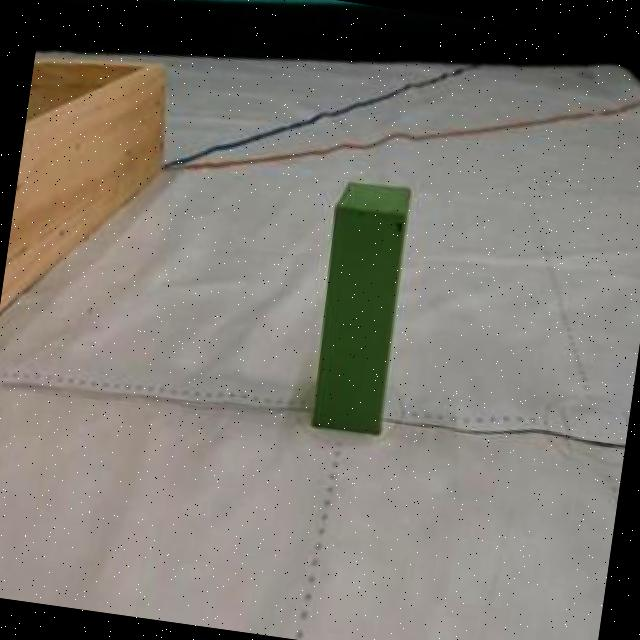greenbox: (298, 170, 416, 436)
